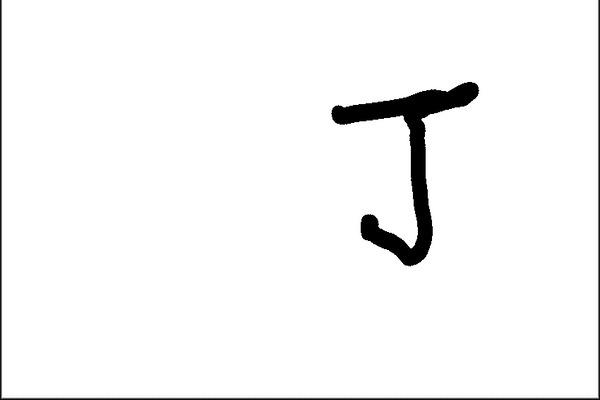J: (323, 77, 487, 271)
